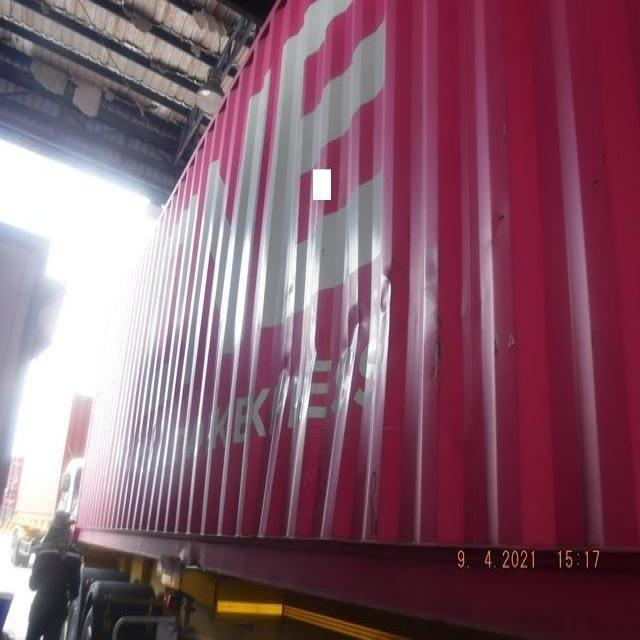dent: (247, 248, 414, 447)
